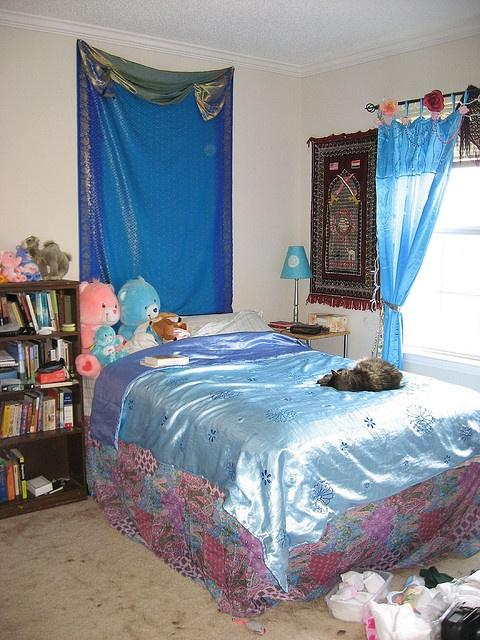Lemari: (0, 278, 88, 522)
